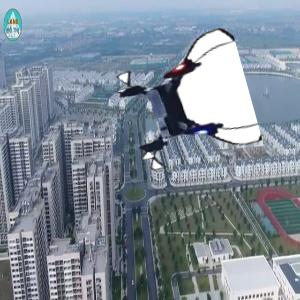drone: (119, 39, 252, 172)
